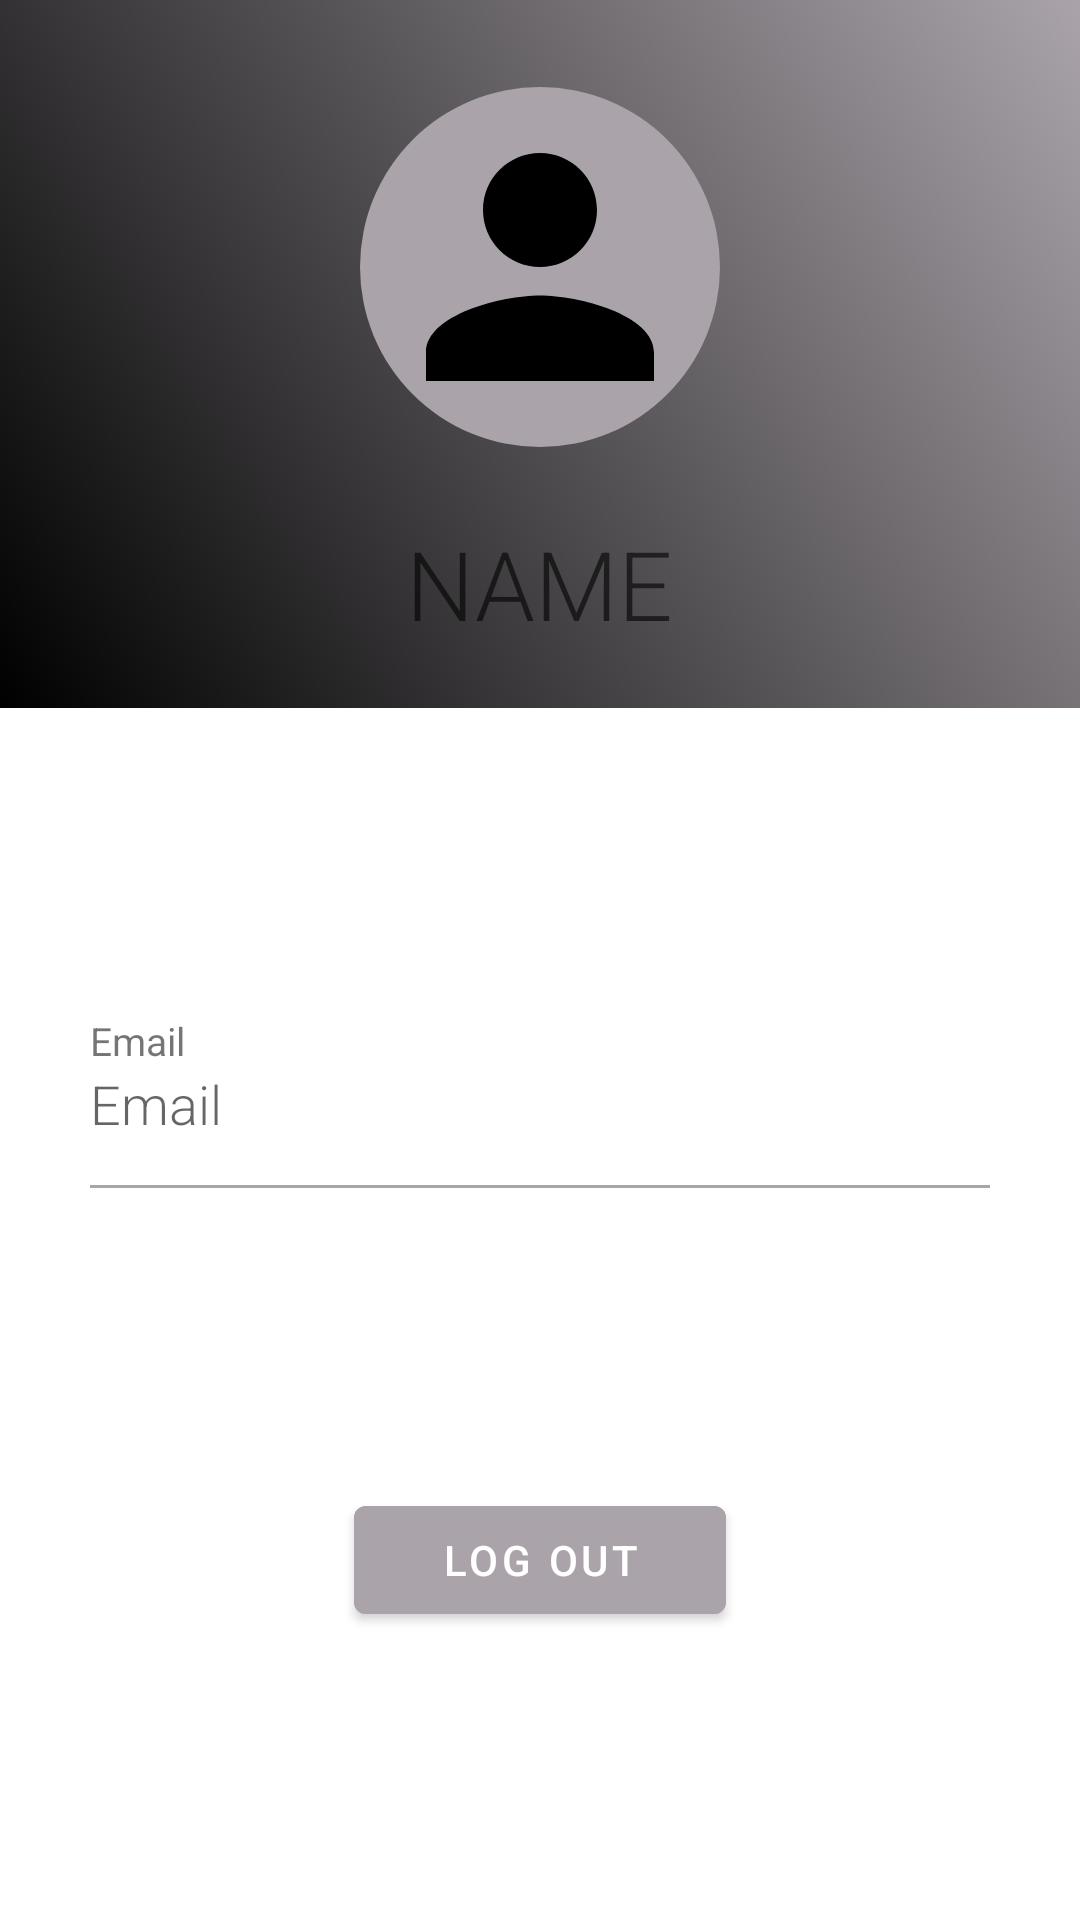

Icon click points for this 1080w x 1920h phone screenshot, format (x=x, y=y):
profile: (x=540, y=267)
